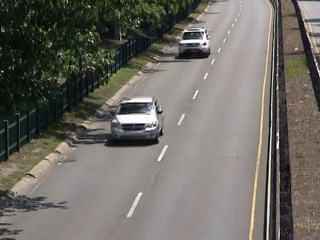car: (105, 93, 168, 146), (175, 25, 216, 61)
